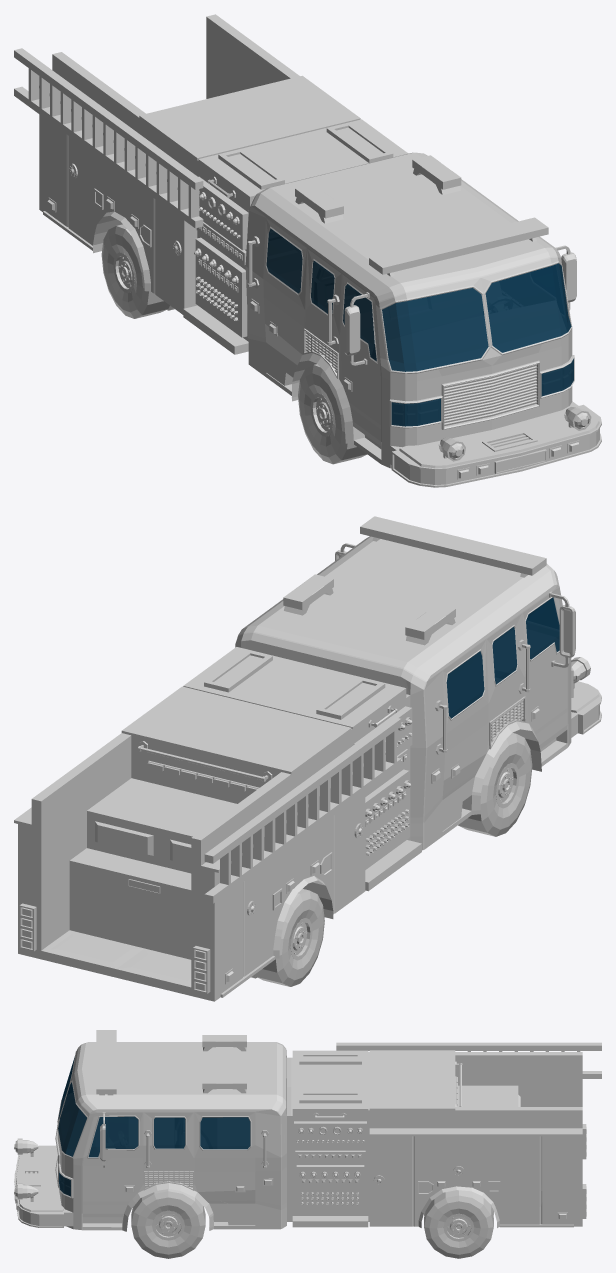
The model's file is firetruck_fixed_wheels.fbx.
The picture shows the model from 3 angles, top to bottom: view 1: azimuth 30°, elevation 25°; view 2: azimuth 150°, elevation 25°; view 3: azimuth 270°, elevation 25°; orthographic projection. The views are drawn at different scales.
Visible parts, largest first — view 1: firetruck_fixed_wheels, firetruck_glass.002; view 2: firetruck_fixed_wheels, firetruck_glass.002; view 3: firetruck_fixed_wheels, firetruck_glass.002.
Boxes of the visible parts, x1,y1,x2,y2 form: firetruck_fixed_wheels: (14,14,601,487); firetruck_glass.002: (266,228,573,426); firetruck_fixed_wheels: (14,516,601,1001); firetruck_glass.002: (446,597,559,718); firetruck_fixed_wheels: (14,1030,601,1258); firetruck_glass.002: (58,1056,250,1196).
Bounding box in the file's own units: 484 × 458 × 1468.
